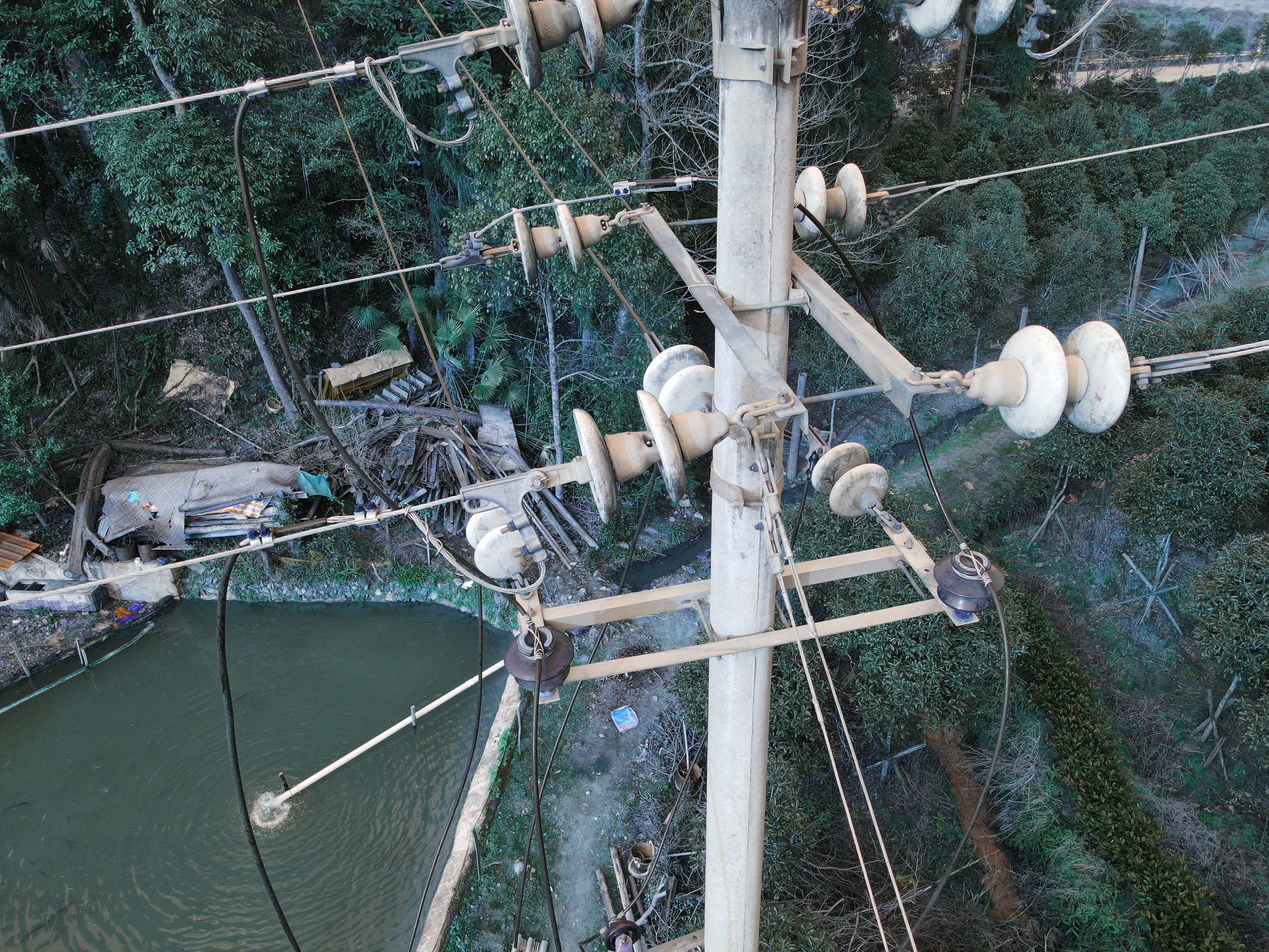severe_soiling_no_discharge_whole: (562, 388, 724, 526), (971, 317, 1134, 440), (505, 4, 637, 93), (510, 197, 614, 283), (791, 162, 872, 245), (808, 440, 889, 518), (930, 548, 1008, 616), (899, 0, 1016, 44), (640, 342, 714, 411), (502, 623, 575, 692), (464, 515, 529, 579)
